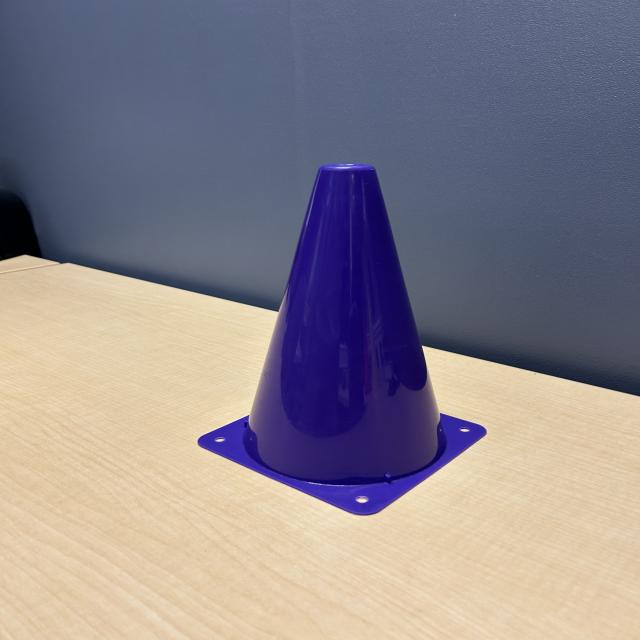purple cone: (192, 153, 502, 518)
